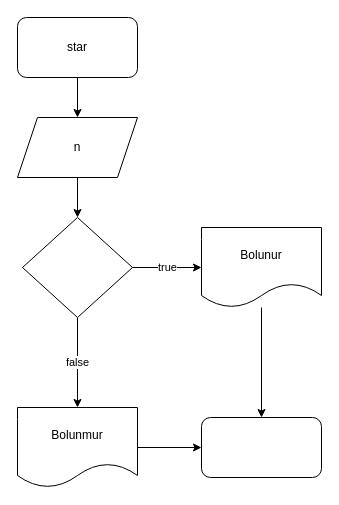
Some shapes in this 339 by 505 pixel diagram are drawn without their labels. Here are the shapes that lost their labels. From the top down, the box of each, then its label:
(22, 216, 132, 318): n%3==0 && n%7==0
(200, 416, 322, 478): end
